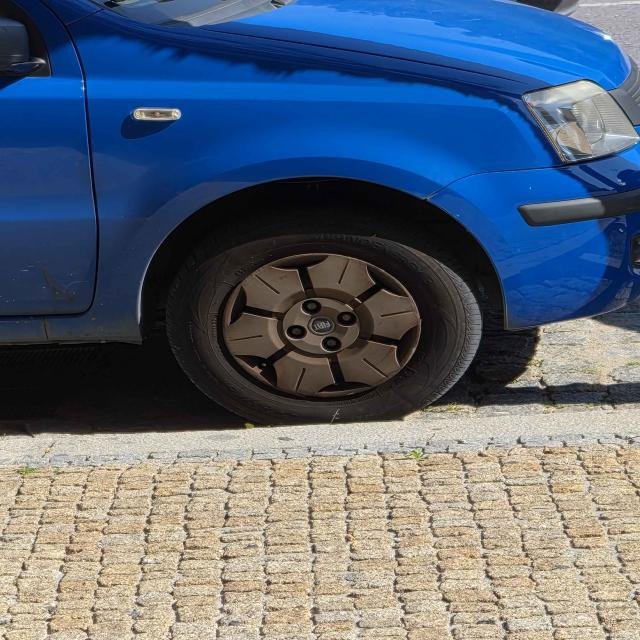jante: (219, 252, 427, 402)
parafuso: (299, 296, 322, 319), (280, 323, 309, 341), (332, 310, 359, 328), (319, 337, 344, 352)
roda: (162, 191, 488, 426)
